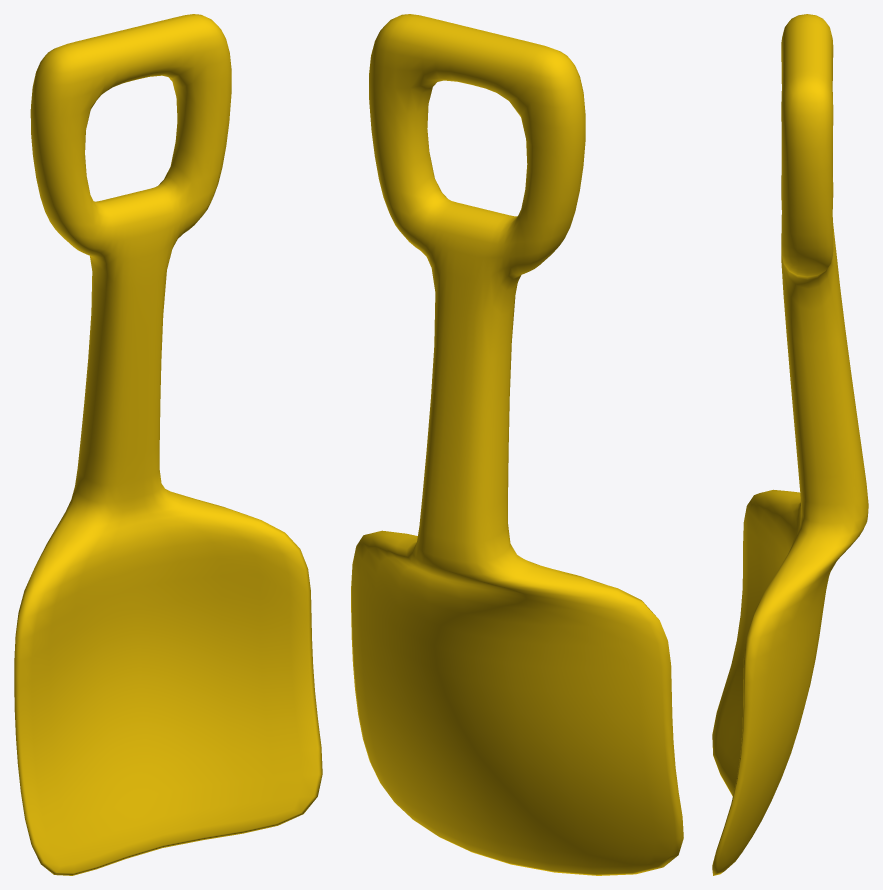
File: beach shovel.fbx
3 renders of one model, left to right at view 1: azimuth 30°, elevation 25°; view 2: azimuth 150°, elevation 25°; view 3: azimuth 270°, elevation 25°, orthographic. The views are drawn at different scales.
Visible parts, largest first — view 1: Shovel; view 2: Shovel; view 3: Shovel.
Boxes of the visible parts, <box> form: Shovel: <box>14,14,322,875</box>; Shovel: <box>351,14,683,875</box>; Shovel: <box>712,14,868,875</box>.
Bounding box in the file's own units: 12.46 × 31.79 × 5.74.
